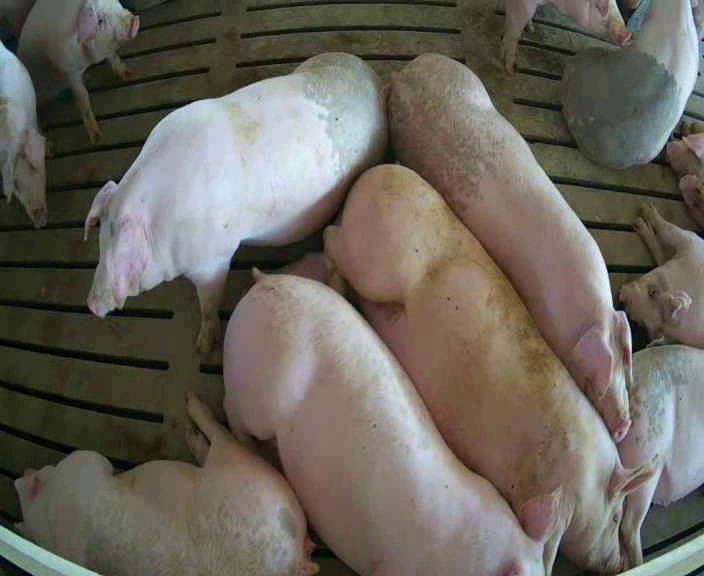pig: (322, 165, 648, 571), (225, 272, 541, 574), (389, 54, 630, 441), (86, 53, 386, 352), (15, 395, 316, 574), (562, 2, 697, 167), (619, 345, 703, 567), (17, 1, 139, 141), (620, 202, 703, 347)
